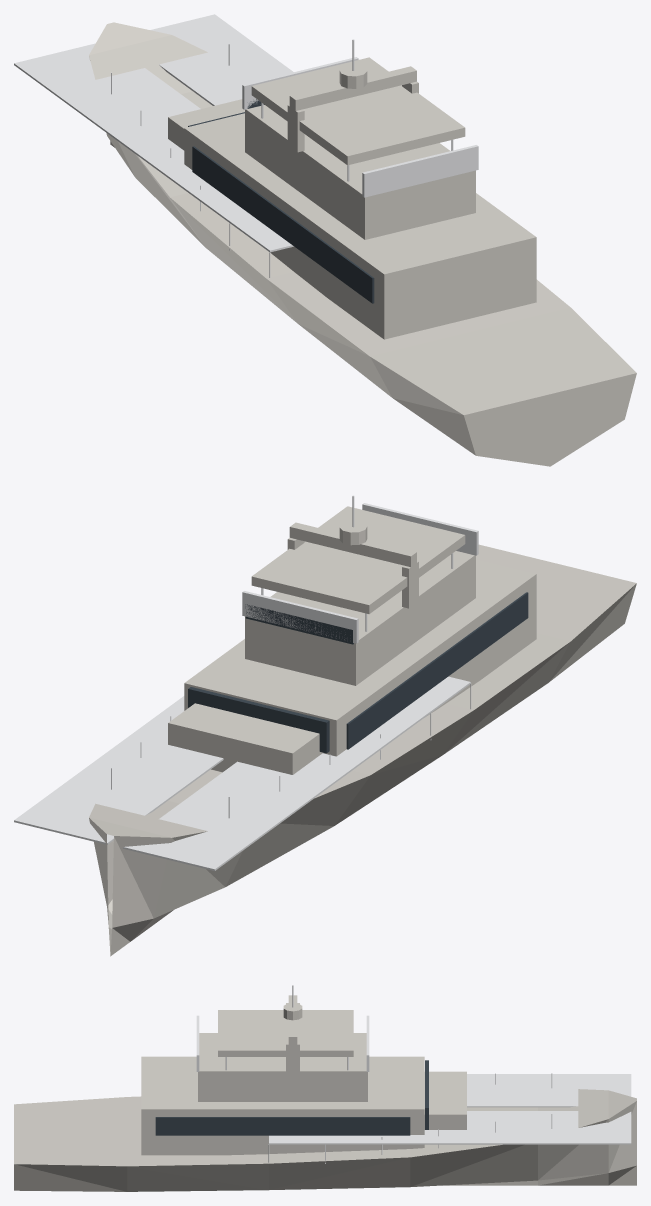
The model's file is moored_motor_yacht.glb.
The picture shows the model from 3 angles, top to bottom: view 1: azimuth 30°, elevation 25°; view 2: azimuth 150°, elevation 25°; view 3: azimuth 270°, elevation 25°; orthographic projection. The views are drawn at different scales.
Visible parts, largest first — view 1: moored_motor_yacht; view 2: moored_motor_yacht; view 3: moored_motor_yacht.
Part boxes in pixels (x1,y1,x2,y2): moored_motor_yacht: (14,14,636,466); moored_motor_yacht: (14,495,636,956); moored_motor_yacht: (14,985,636,1191).
Bounding box in the file's own units: 6 × 7.8 × 22.
